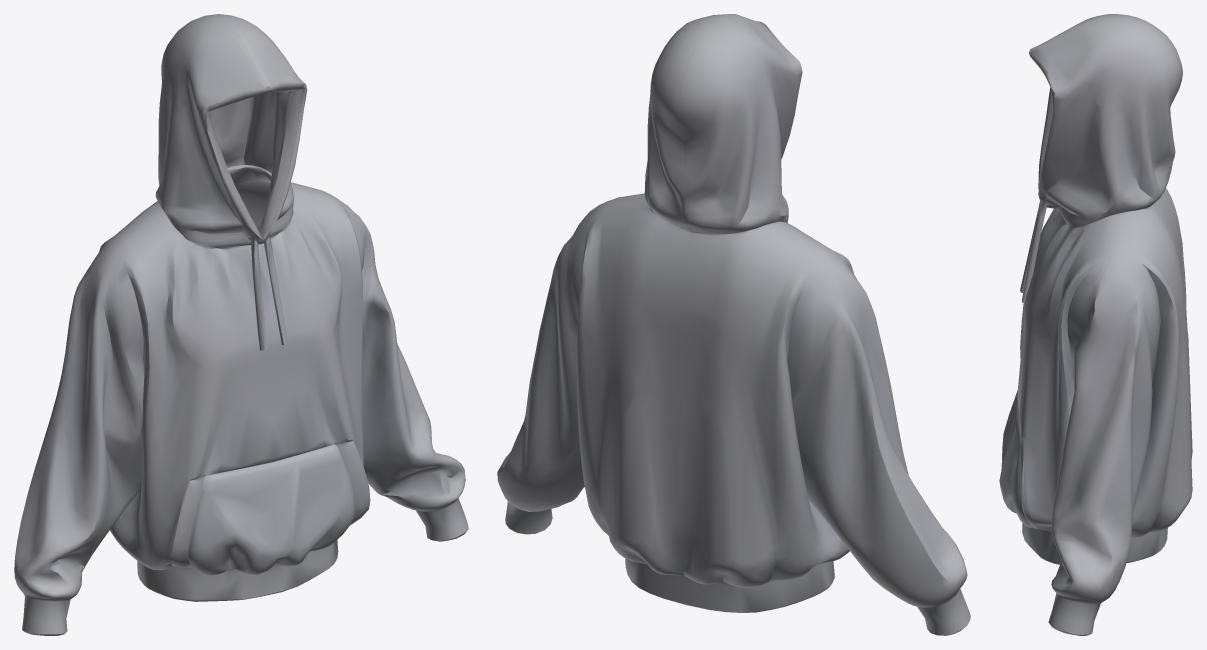
Rendered from sweatclassic.glb.
3 renders of one model, left to right at view 1: azimuth 30°, elevation 25°; view 2: azimuth 150°, elevation 25°; view 3: azimuth 270°, elevation 25°, orthographic. The views are drawn at different scales.
Visible parts, largest first — view 1: texture_pbr_v128; view 2: texture_pbr_v128; view 3: texture_pbr_v128.
Boxes of the visible parts, bbox=[...] form: texture_pbr_v128: bbox=[14, 14, 468, 635]; texture_pbr_v128: bbox=[497, 14, 970, 635]; texture_pbr_v128: bbox=[999, 14, 1192, 635].
Bounding box in the file's own units: 0.7853 × 0.933 × 0.3136.
1 material, 1 textured.
